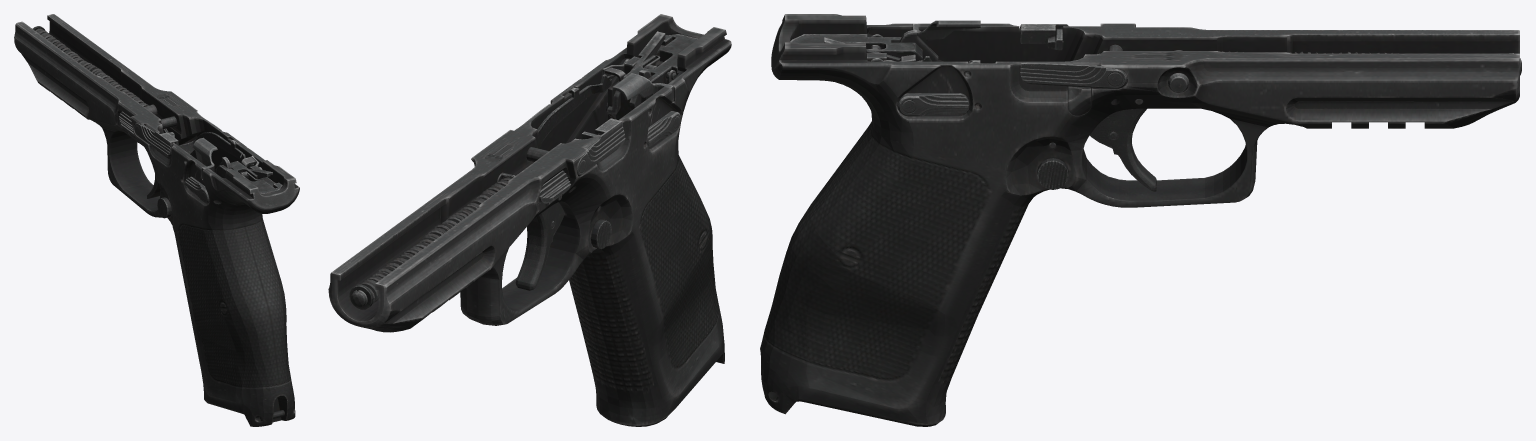
3 views of the same model, side by side, from view 1: azimuth 30°, elevation 25°; view 2: azimuth 150°, elevation 25°; view 3: azimuth 270°, elevation 25° (orthographic). The views are drawn at different scales.
Parts seen in each view (by area): view 1: TW_602a9740da11d6478d5a06dc_PZ_Import; view 2: TW_602a9740da11d6478d5a06dc_PZ_Import; view 3: TW_602a9740da11d6478d5a06dc_PZ_Import.
Part boxes in pixels (x1,y1,x2,y2): TW_602a9740da11d6478d5a06dc_PZ_Import: (14, 14, 299, 426); TW_602a9740da11d6478d5a06dc_PZ_Import: (328, 14, 731, 426); TW_602a9740da11d6478d5a06dc_PZ_Import: (760, 14, 1521, 426).
Bounding box in the file's own units: 0.016 × 0.1203 × 0.0673.
Materials: 1 (1 with a texture image).
